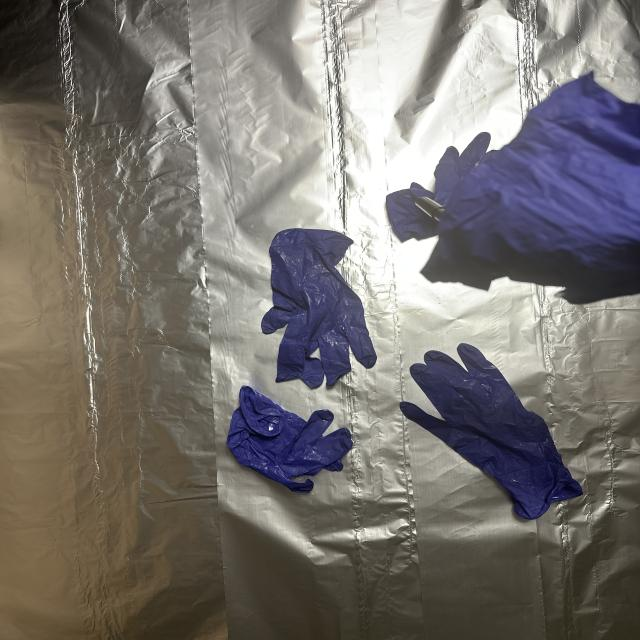glove_not_fitted: (429, 69, 640, 307)
